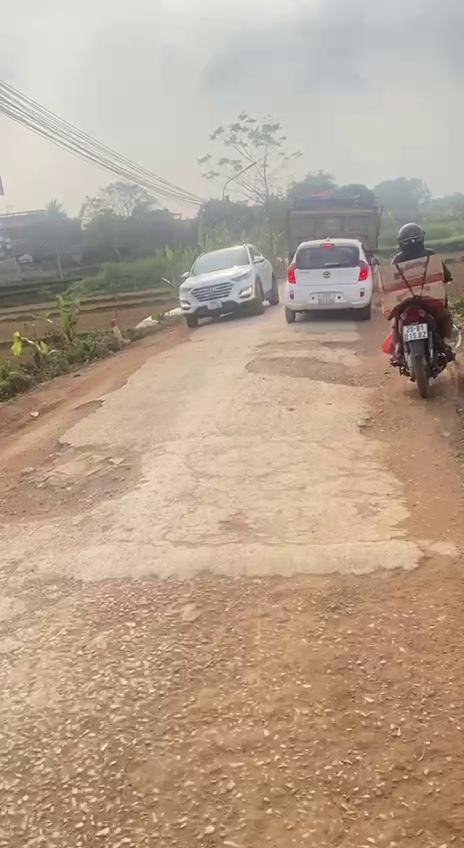pothole: (0, 394, 146, 528), (242, 336, 384, 390), (356, 404, 394, 443)
